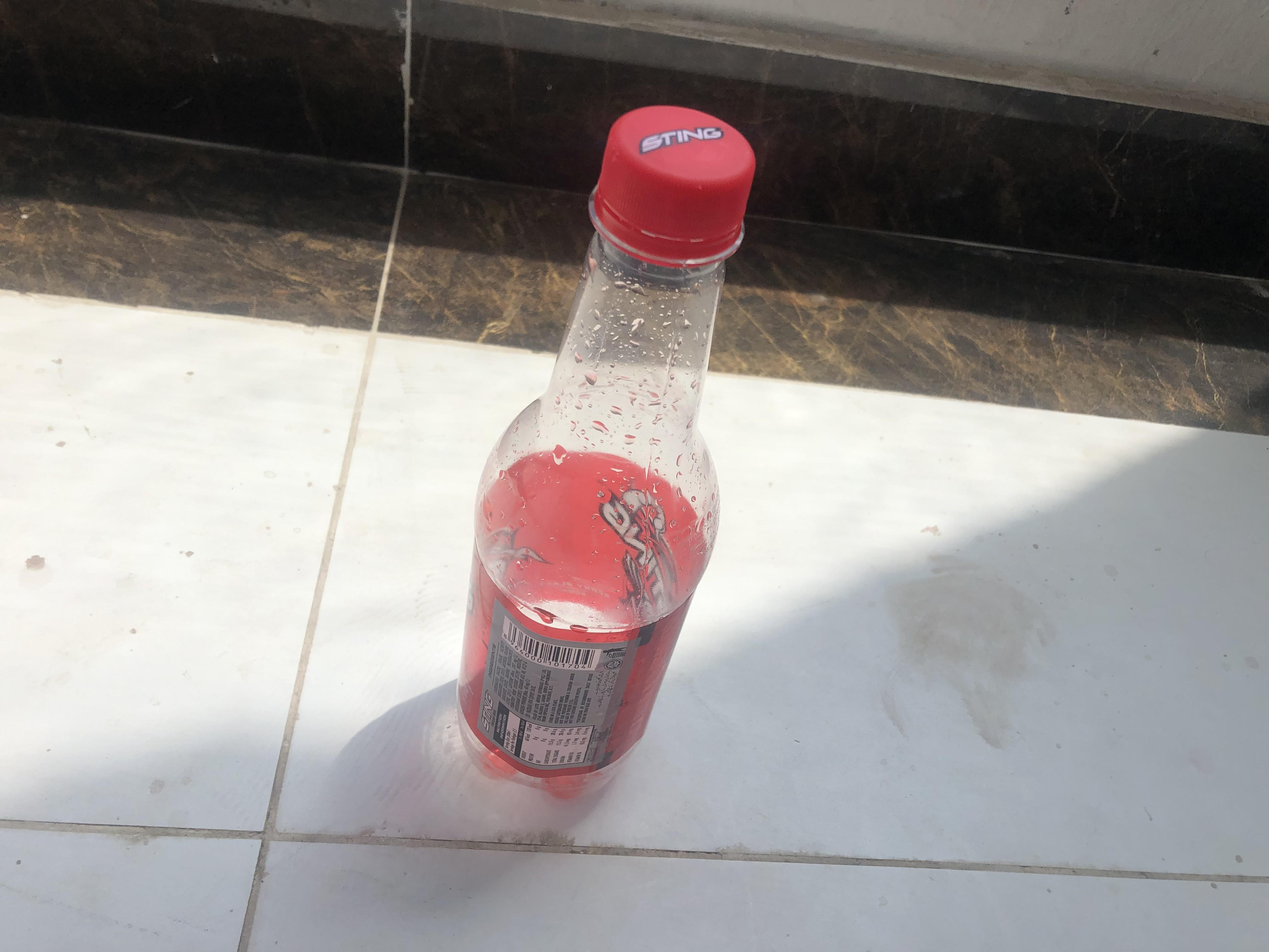bottle-plastic: (455, 106, 757, 812)
